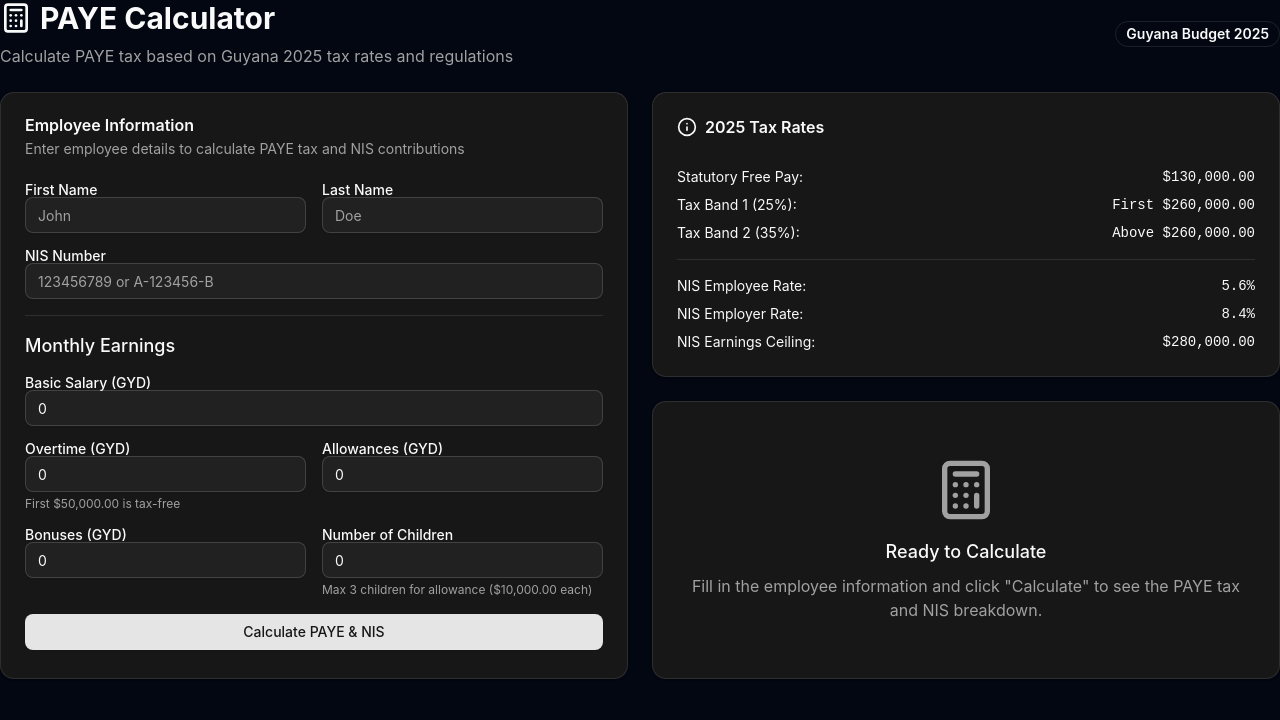
Test: React Components › PayeCalculator Component › should validate required fields
What coordinates should you click on to do the following:
click the button "Calculate PAYE & NIS"
I would click on:
 (314, 632)
Its box is [25, 614, 603, 650].
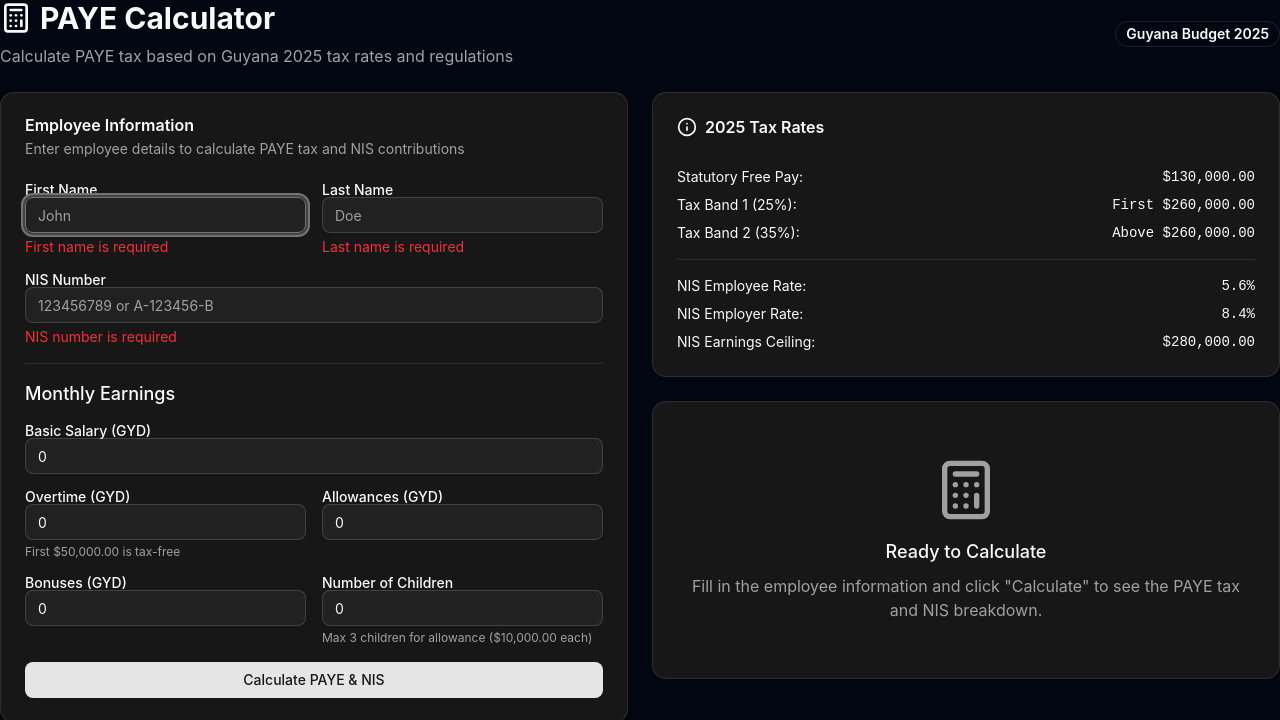
Expected: the text "First name is required" is shown, [25, 238, 168, 255]
Expected: the text "Last name is required" is shown, [322, 238, 464, 255]
Expected: the text "NIS number is required" is shown, [25, 328, 177, 345]
